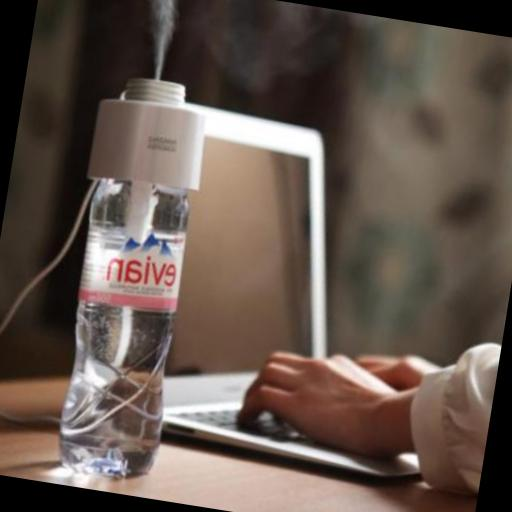Coca: (30, 53, 224, 496)
